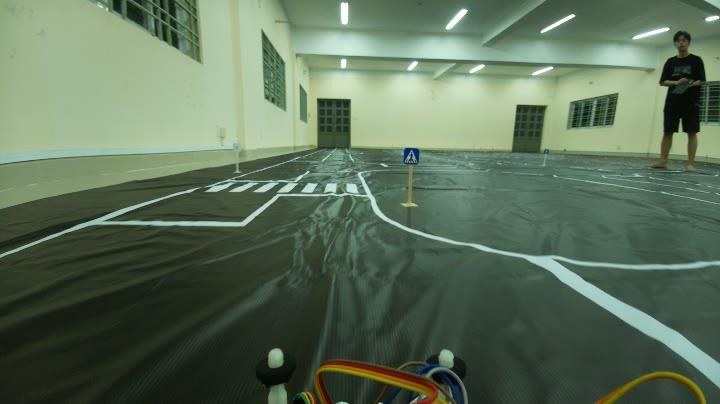crosswalk: (399, 138, 422, 172)
